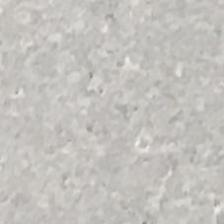Non_Crack: (27, 32, 188, 194)
